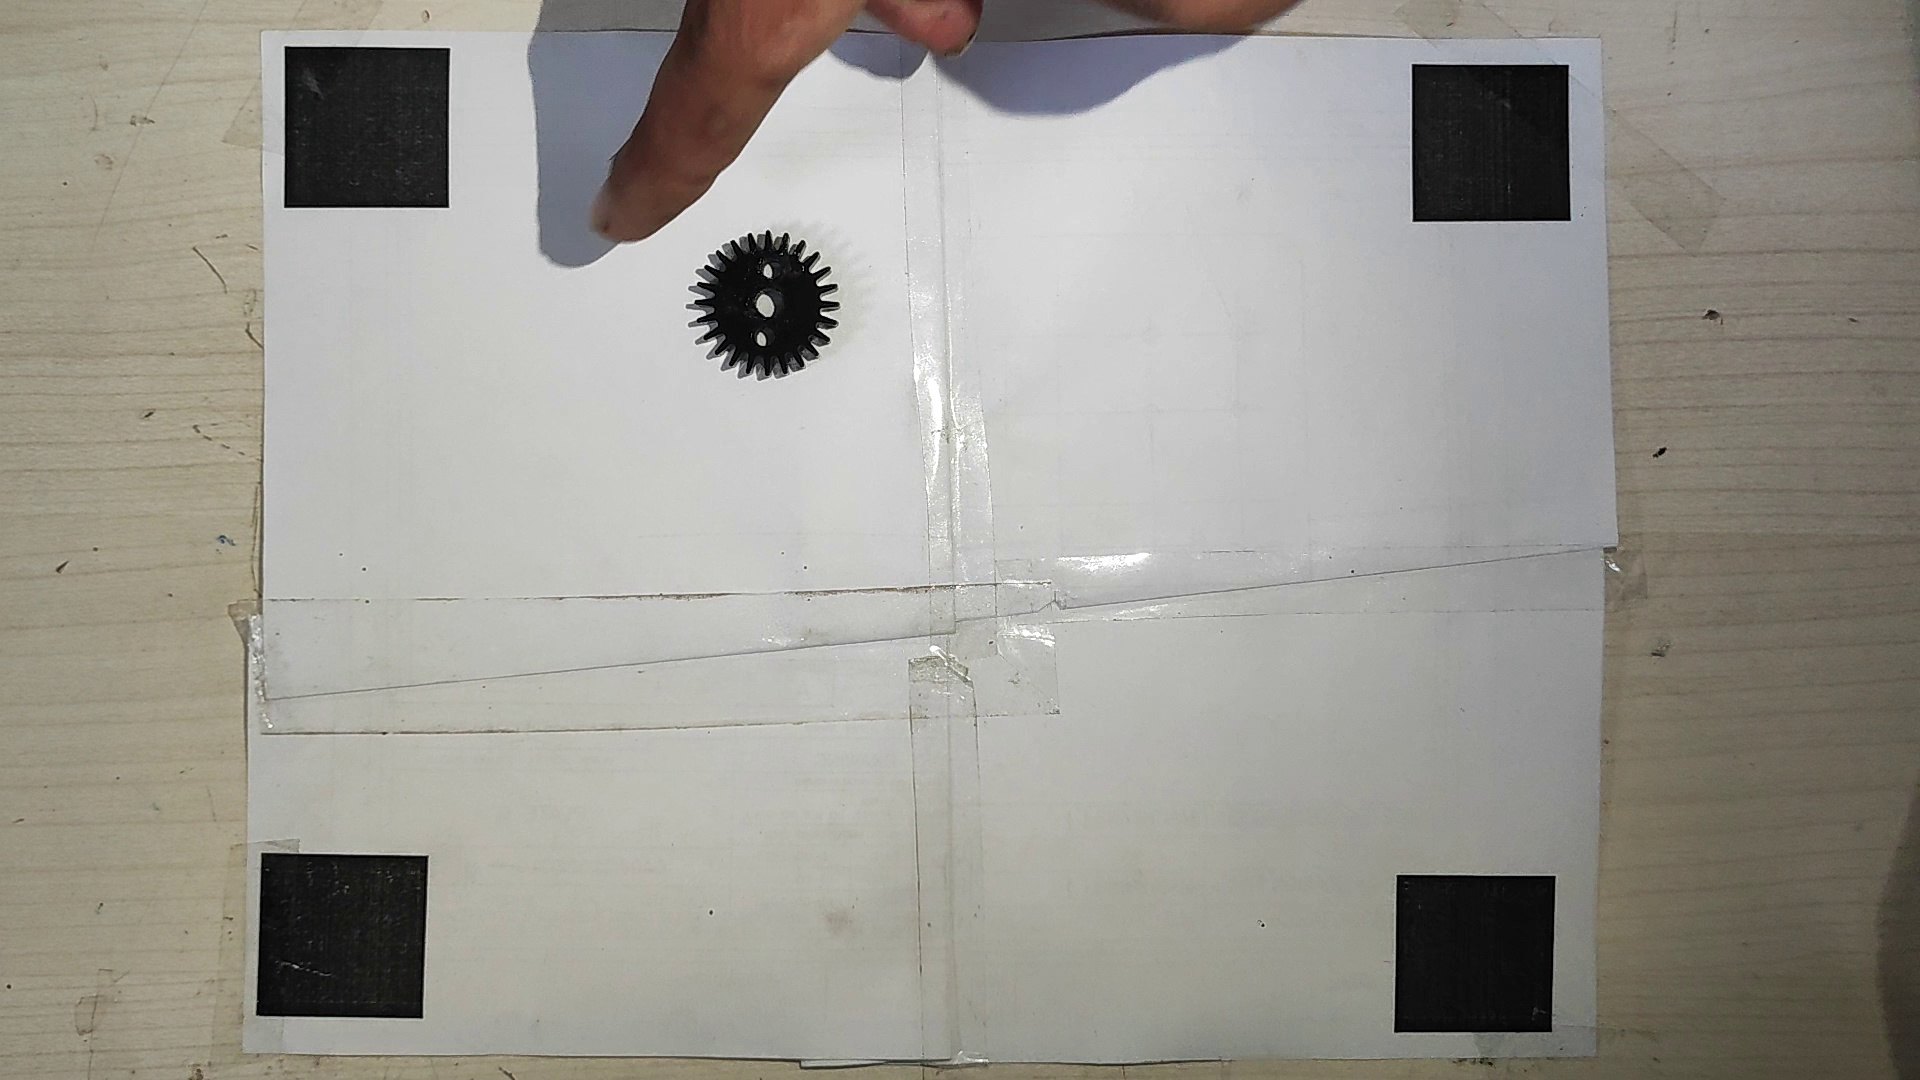Gear: (681, 221, 843, 380)
